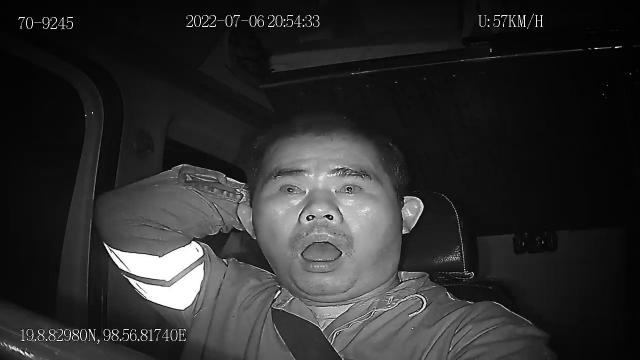SafeDriving: (328, 172, 368, 204), (272, 172, 312, 202)
Seatbelt: (270, 305, 344, 360)
